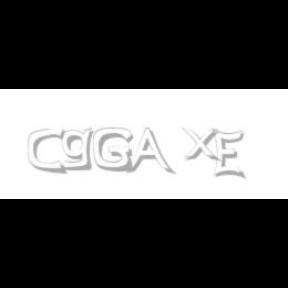A: (124, 128, 172, 176)
C: (29, 128, 66, 174)
E: (212, 128, 244, 180)
G: (93, 128, 133, 172)
g: (61, 128, 98, 171)
x: (182, 128, 224, 162)
